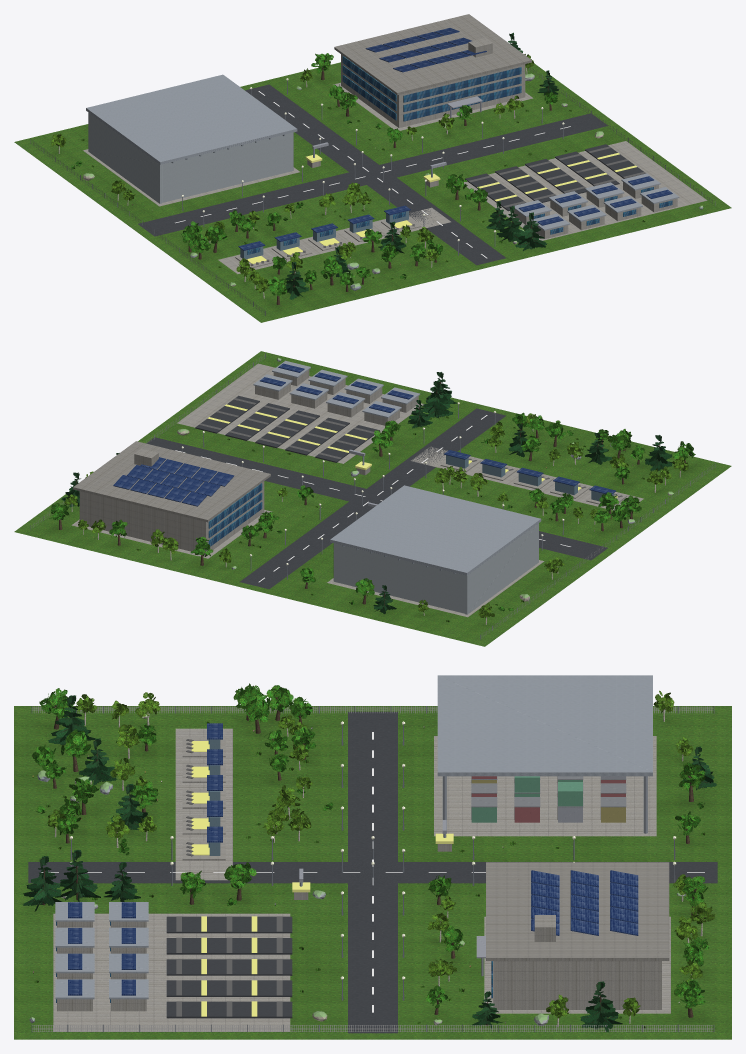
Rendered from robot-lab.glb.
The picture shows the model from 3 angles, top to bottom: view 1: azimuth 30°, elevation 25°; view 2: azimuth 150°, elevation 25°; view 3: azimuth 270°, elevation 25°; orthographic projection. The views are drawn at different scales.
Visible parts, largest first — view 1: Scenery_ground, Scenery_metal, Scenery_concrete, Scenery_asphalt, Scenery_leaf, Scenery_glass, Scenery_solar, Scenery_leafBirch, Scenery_misc, Scenery_pine, Scenery_net, Scenery_barkA (+1 smaller); view 2: Scenery_ground, Scenery_metal, Scenery_concrete, Scenery_asphalt, Scenery_leaf, Scenery_solar, Scenery_leafBirch, Scenery_pine, Scenery_misc, Scenery_glass, Scenery_net, Scenery_barkA; view 3: Scenery_ground, Scenery_concrete, Scenery_metal, Scenery_asphalt, Scenery_leaf, Scenery_solar, Scenery_leafBirch, Scenery_pine, Scenery_net, Scenery_misc, Scenery_barkA, Scenery_rock.
Part boxes in pixels (bbox=[...]): Scenery_ground: bbox=[14, 62, 731, 322]; Scenery_metal: bbox=[30, 68, 715, 315]; Scenery_concrete: bbox=[83, 14, 707, 274]; Scenery_asphalt: bbox=[138, 84, 644, 265]; Scenery_leaf: bbox=[71, 53, 557, 296]; Scenery_glass: bbox=[247, 56, 672, 254]; Scenery_solar: bbox=[238, 28, 672, 250]; Scenery_leafBirch: bbox=[51, 54, 533, 292]; Scenery_misc: bbox=[175, 78, 645, 265]; Scenery_pine: bbox=[285, 32, 558, 299]; Scenery_net: bbox=[31, 68, 714, 314]; Scenery_barkA: bbox=[188, 60, 551, 304]; Scenery_ground: bbox=[14, 351, 731, 646]; Scenery_metal: bbox=[30, 353, 715, 639]; Scenery_concrete: bbox=[71, 363, 643, 617]; Scenery_asphalt: bbox=[146, 395, 607, 589]; Scenery_leaf: bbox=[49, 409, 695, 611]; Scenery_solar: bbox=[113, 363, 615, 506]; Scenery_leafBirch: bbox=[64, 413, 688, 617]; Scenery_pine: bbox=[61, 372, 672, 613]; Scenery_misc: bbox=[175, 398, 622, 582]; Scenery_glass: bbox=[208, 483, 262, 546]; Scenery_net: bbox=[31, 354, 714, 638]; Scenery_barkA: bbox=[59, 423, 685, 604]; Scenery_ground: bbox=[14, 706, 731, 1039]; Scenery_concrete: bbox=[53, 728, 670, 1031]; Scenery_metal: bbox=[31, 675, 714, 1032]; Scenery_asphalt: bbox=[28, 711, 717, 1033]; Scenery_leaf: bbox=[32, 683, 708, 1008]; Scenery_solar: bbox=[68, 723, 638, 995]; Scenery_leafBirch: bbox=[47, 690, 715, 1018]; Scenery_pine: bbox=[23, 695, 716, 1032]; Scenery_net: bbox=[32, 706, 713, 1031]; Scenery_misc: bbox=[41, 721, 704, 1016]; Scenery_barkA: bbox=[43, 696, 696, 1017]; Scenery_rock: bbox=[29, 714, 685, 1025].
Size of the model in its own units: 220 by 21.5 by 200.
Materials: 17 (15 with a texture image).
